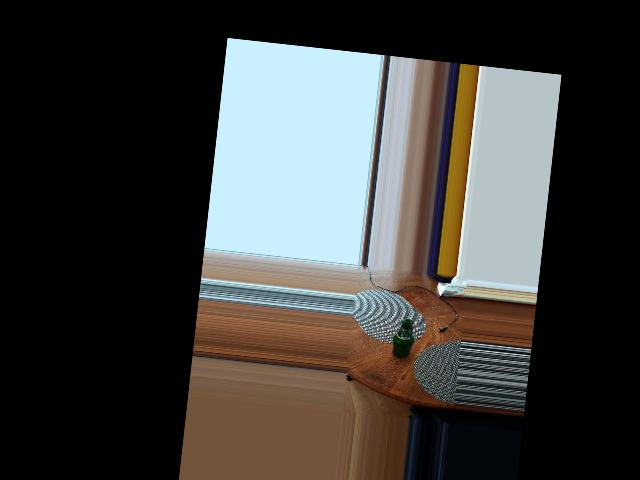beer: (390, 317, 415, 359)
